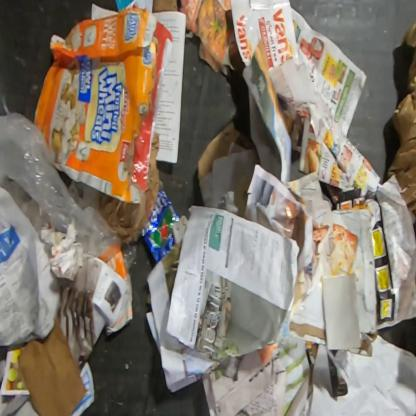cardboard: (32, 2, 174, 205), (17, 307, 88, 415), (197, 122, 253, 183)
metal: (140, 190, 180, 263)
rigid_plastic: (3, 175, 45, 228)
soft_plastic: (0, 110, 138, 271)
